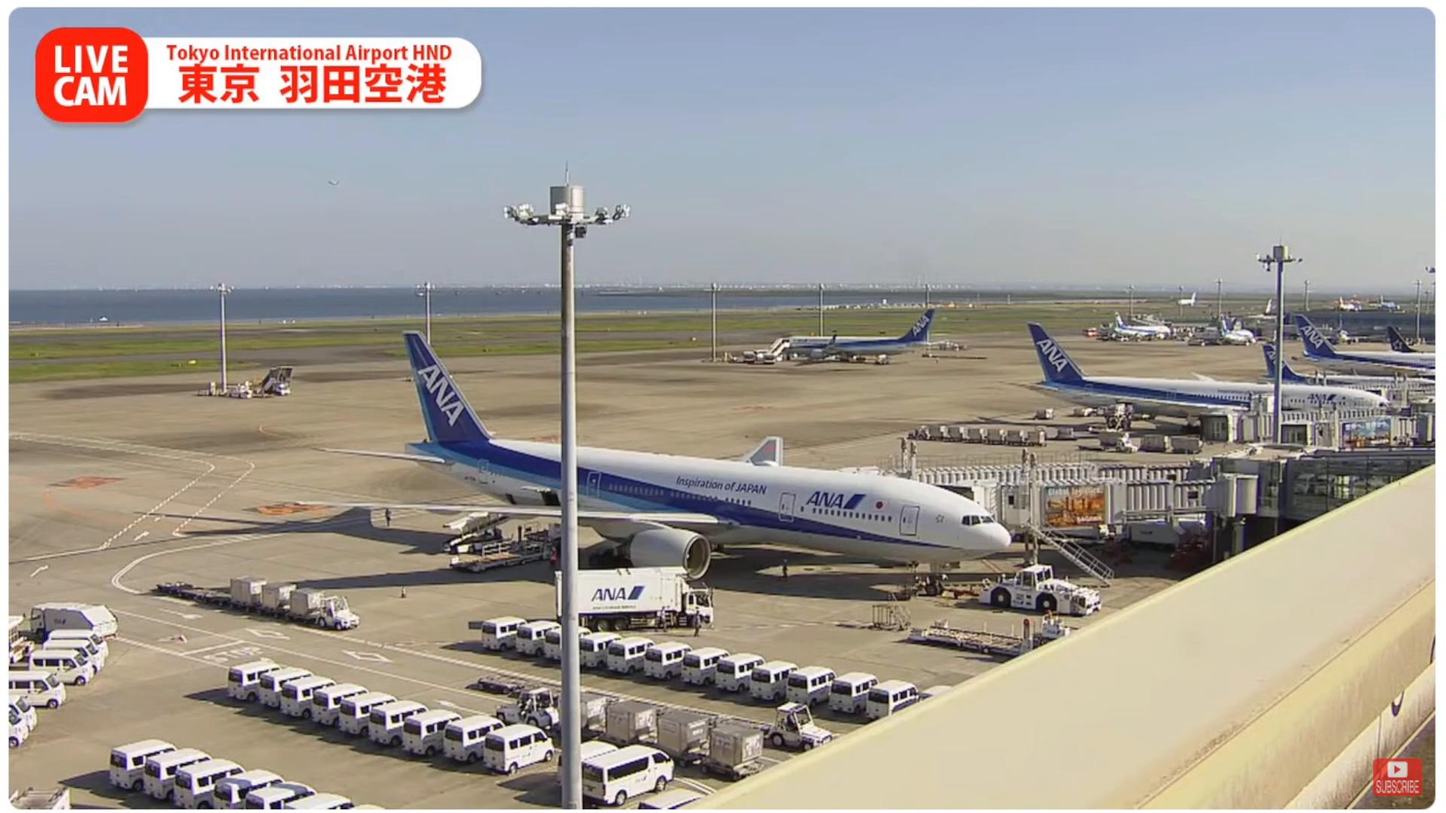APS: (982, 565, 1107, 615)
Aerobridge: (880, 463, 1198, 520), (990, 479, 1258, 539)
Airplane: (308, 328, 1018, 599)
Catering: (552, 559, 705, 634)
Dolly: (476, 673, 777, 740), (556, 691, 775, 779), (143, 577, 327, 627)
JCPL: (903, 609, 1073, 659), (480, 504, 562, 572)
Skyloader: (444, 505, 507, 558)
Tractor: (769, 702, 837, 754), (494, 688, 561, 737), (318, 591, 357, 632)
Window: (1281, 462, 1437, 524)
